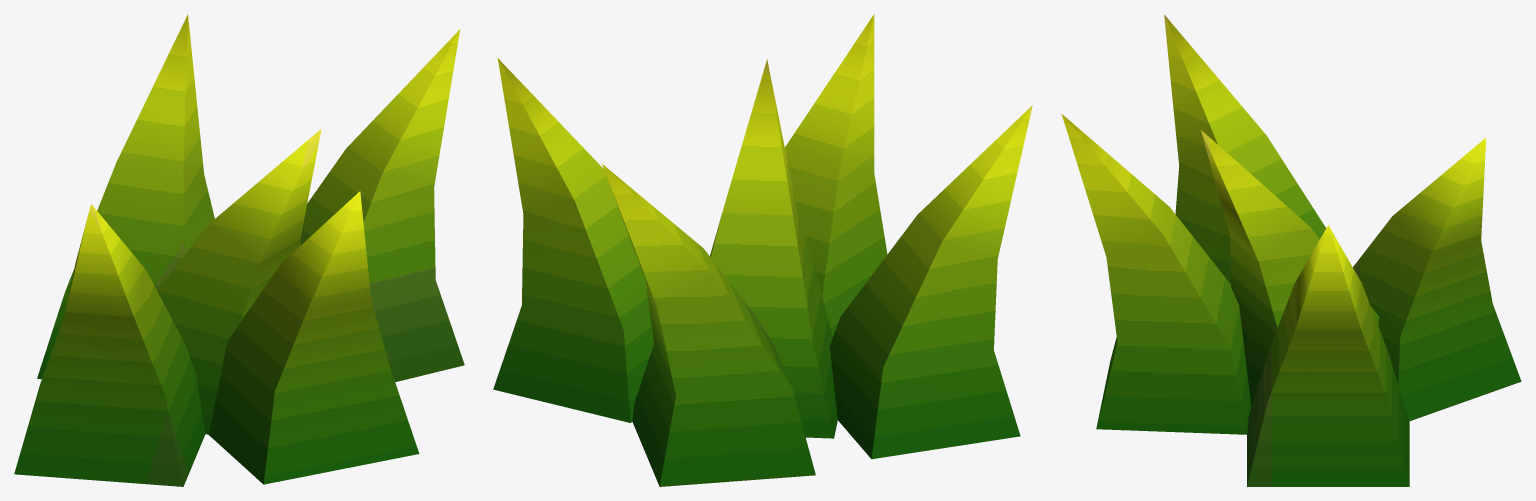
File: simple_low_poly_grass1.glb
The picture shows the model from 3 angles, left to right: view 1: azimuth 30°, elevation 25°; view 2: azimuth 150°, elevation 25°; view 3: azimuth 270°, elevation 25°; orthographic projection. The views are drawn at different scales.
Visible parts, largest first — view 1: grass1_Material #25_0; view 2: grass1_Material #25_0; view 3: grass1_Material #25_0.
Boxes of the visible parts, x1=… form: grass1_Material #25_0: x1=14, y1=14, x2=464, y2=486; grass1_Material #25_0: x1=493, y1=14, x2=1032, y2=486; grass1_Material #25_0: x1=1061, y1=14, x2=1521, y2=486.
Size of the model in its own units: 0.814 by 0.4708 by 0.7014.
Materials: 1 (1 with a texture image).
